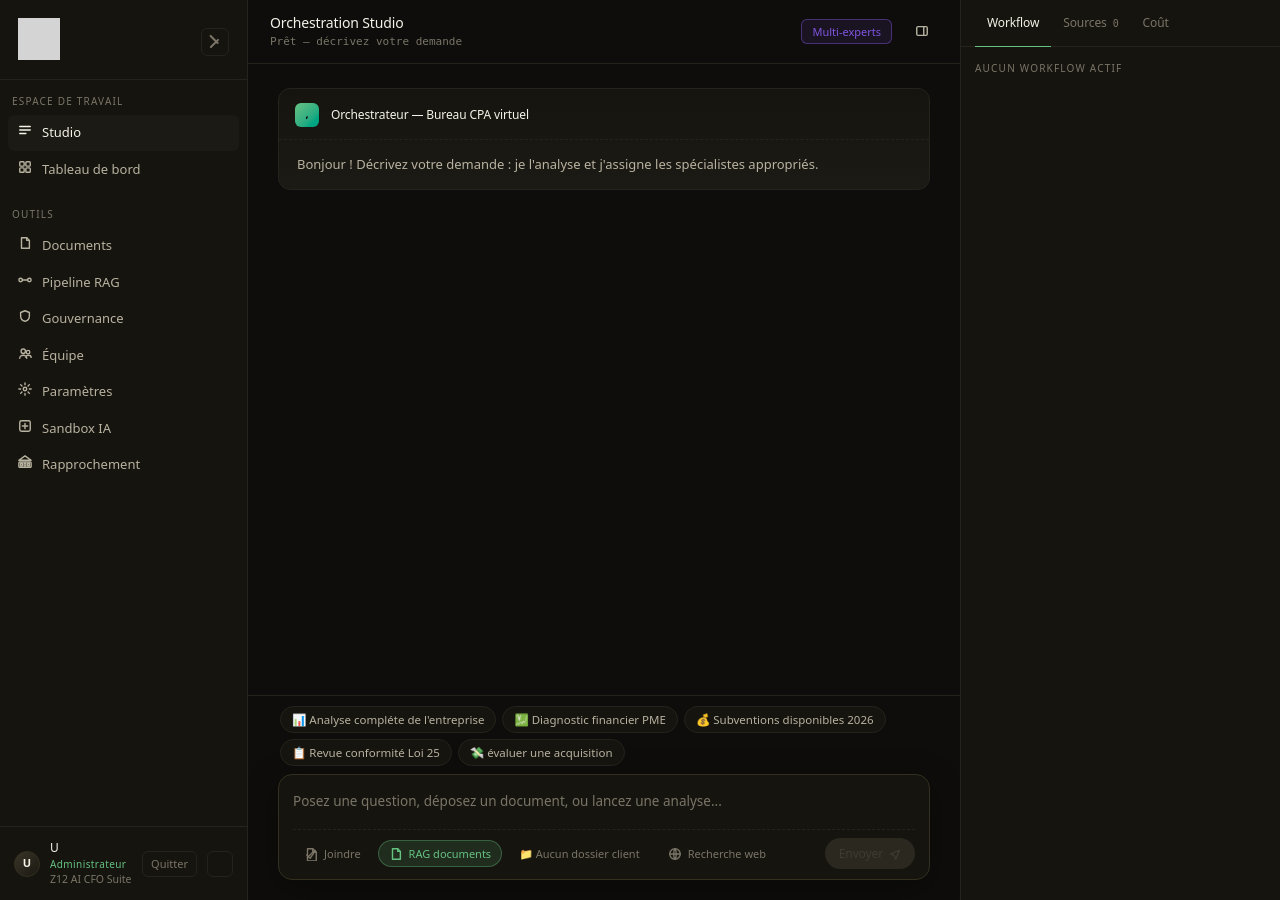
Test: settings view › shows the real model names and readable text
Click the element showing "Paramètres": (65, 391) [18,382,112,400]
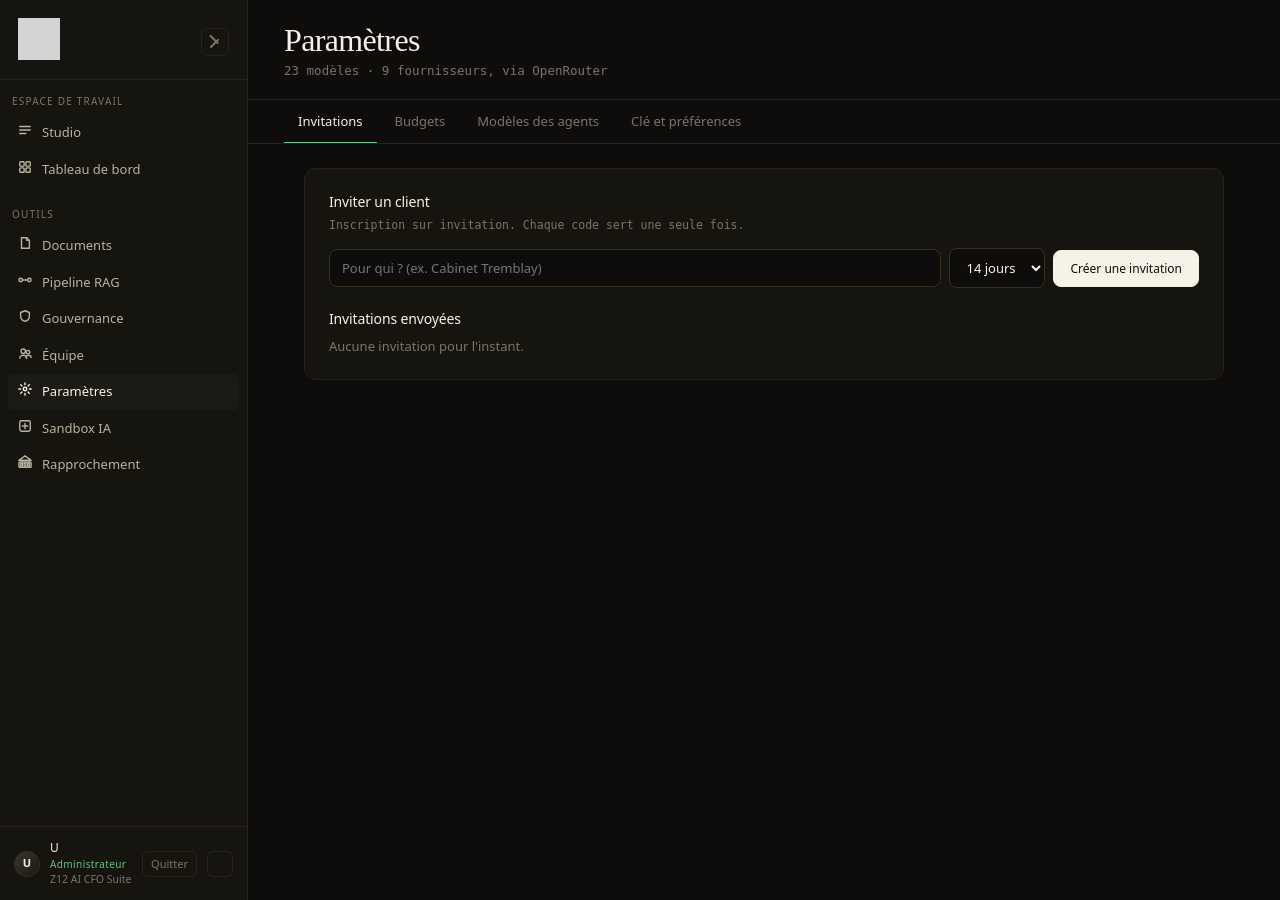
Click the tab with test id "settings-tab-models": (538, 122) [463,100,613,144]
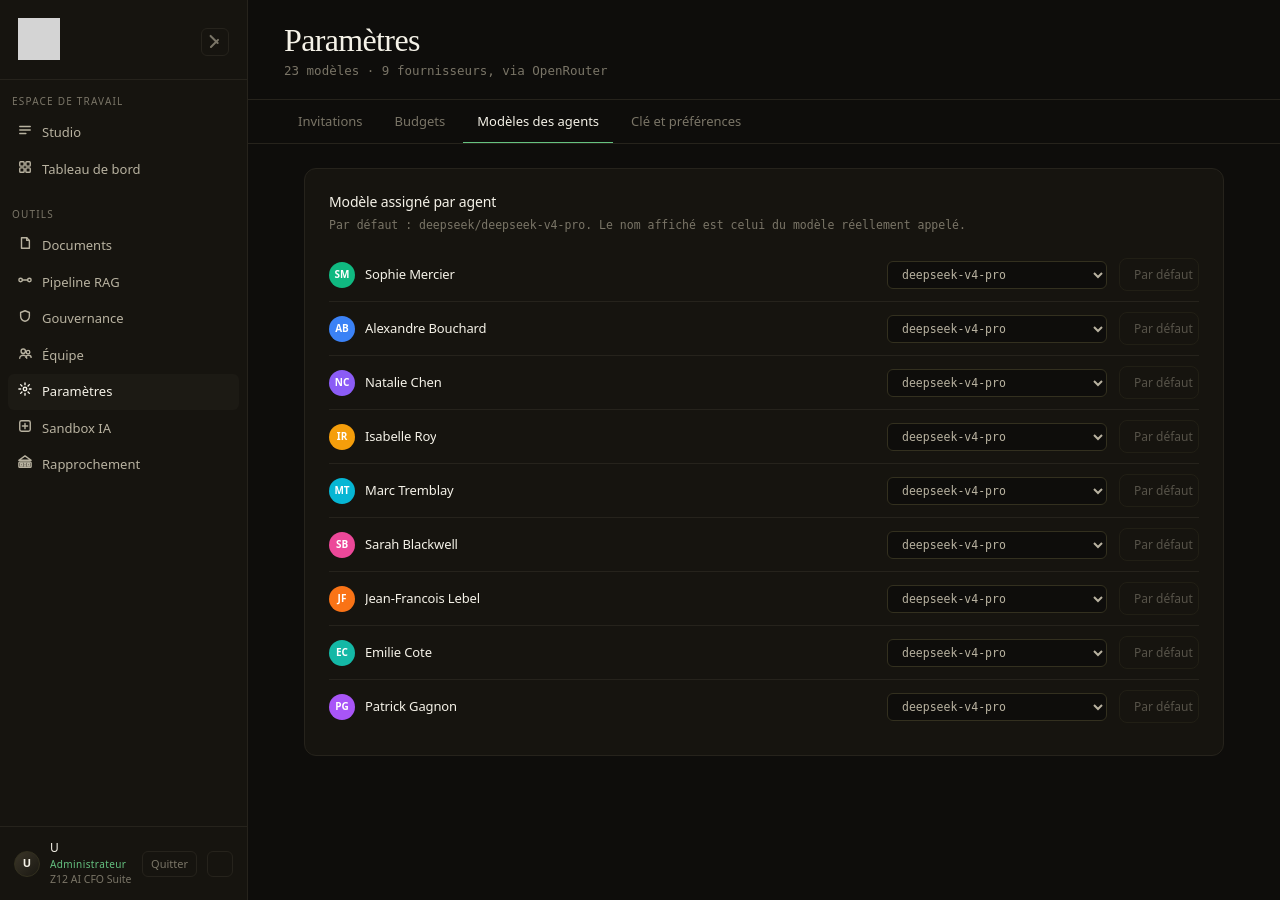
Expected: the dropdown with class "set-select" shows "deepseek-v4-pro", [887,260,1107,288]
Click the tab with test id "settings-tab-general": (686, 122) [617,100,755,144]
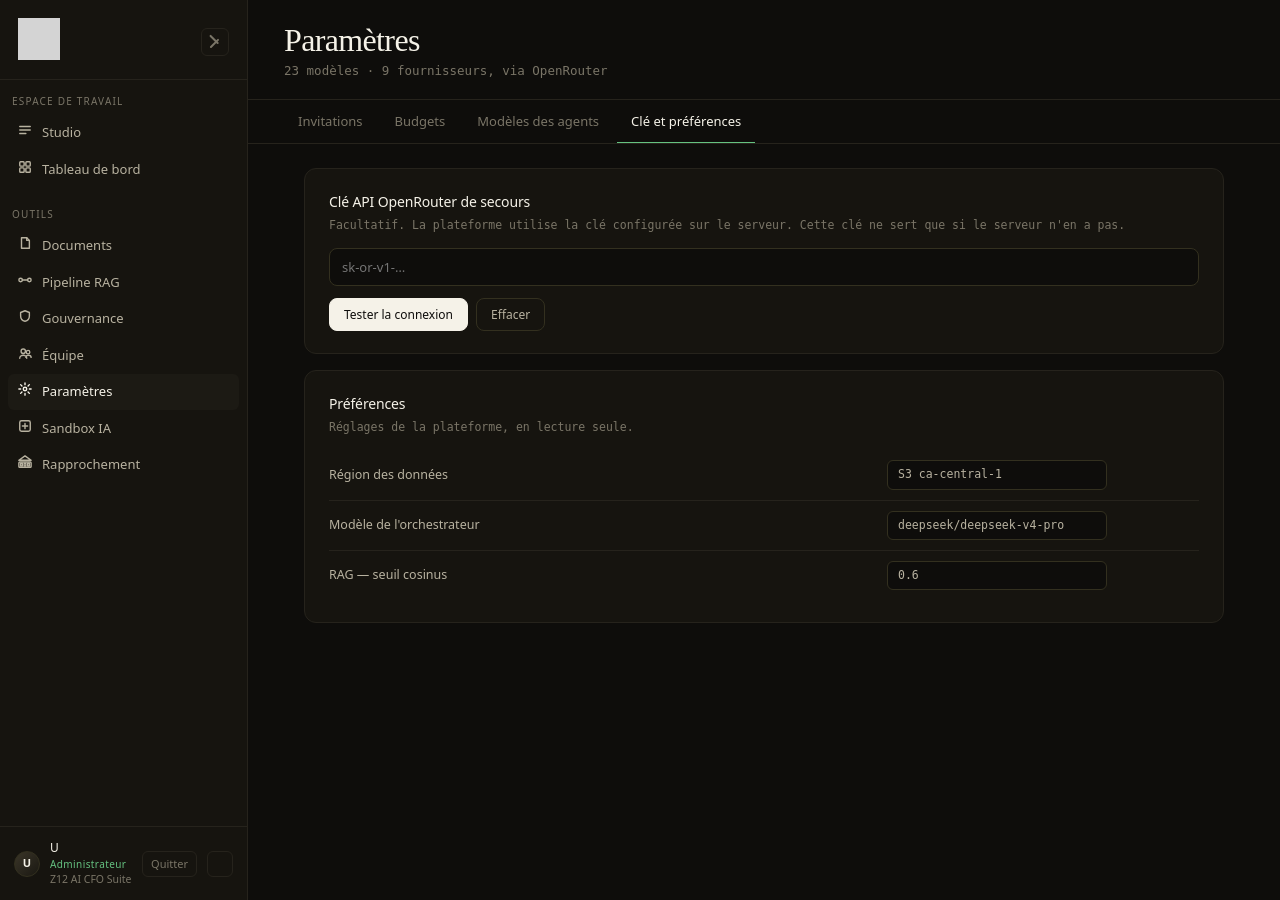
Expected: the button "Tester la connexion" is shown, [329,298,468,331]
